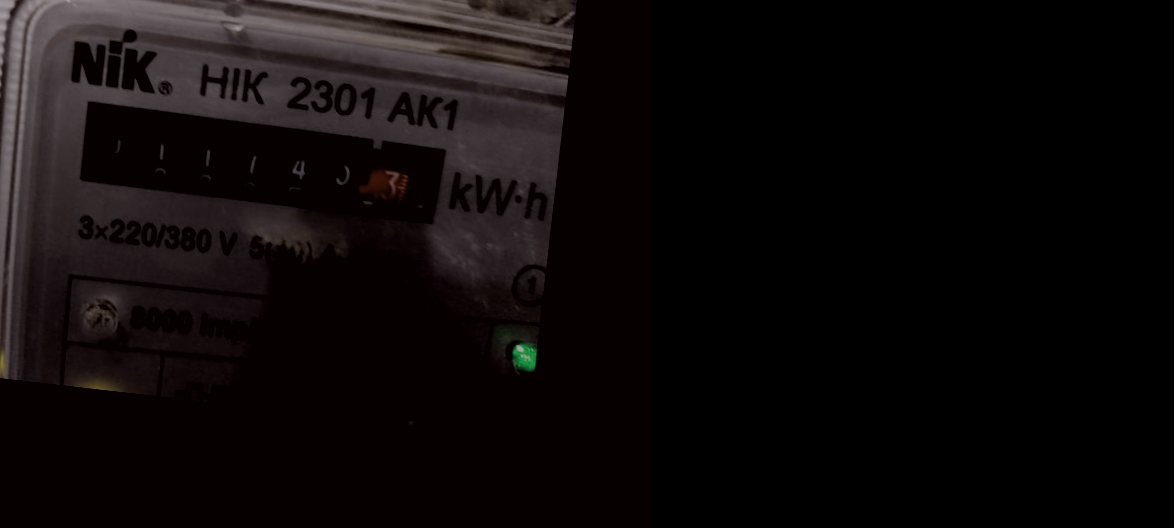0: (101, 118, 127, 159), (150, 123, 173, 166)
1: (197, 129, 218, 172)
3: (331, 148, 355, 193), (377, 166, 401, 206)
4: (286, 142, 311, 184)
7: (239, 134, 267, 180)
screen: (57, 87, 455, 237)
